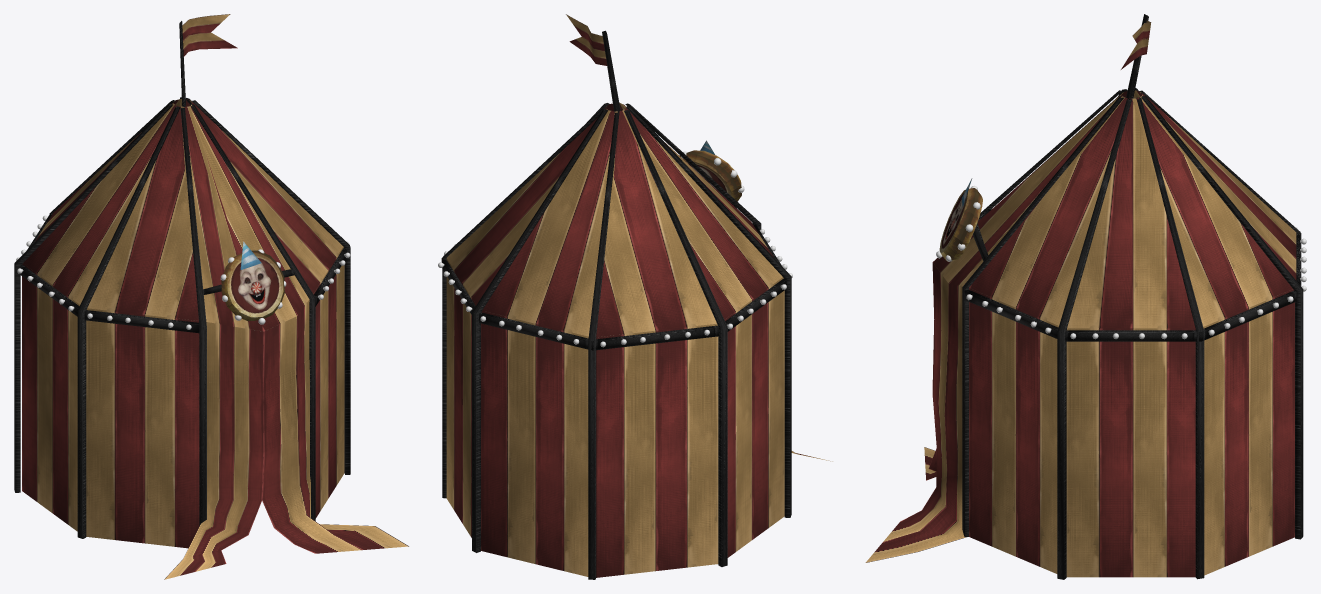
The model's file is circus.fbx.
3 views of the same model, side by side, from view 1: azimuth 30°, elevation 25°; view 2: azimuth 150°, elevation 25°; view 3: azimuth 270°, elevation 25° (orthographic). The views are drawn at different scales.
Visible parts, largest first — view 1: Plane.028; view 2: Plane.028; view 3: Plane.028.
Part boxes in pixels (x1,y1,x2,y2): Plane.028: (14,14,408,579); Plane.028: (438,14,832,579); Plane.028: (865,14,1306,579).
Bounding box in the file's own units: 182 × 231 × 287.
